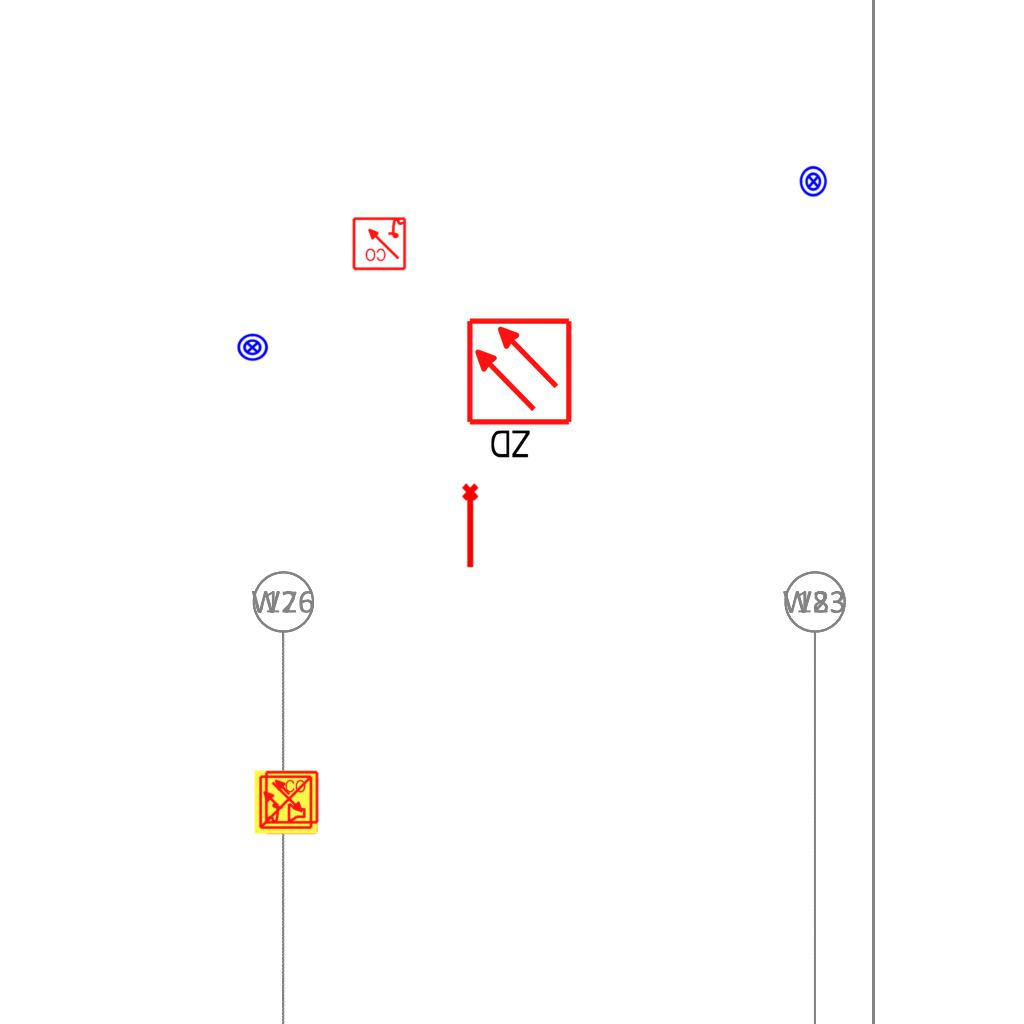ASR_Ansaugoeffnung: (460, 482, 483, 570)
OKW_Multisensormelder_(Kombination_optischer_Rauch-Kahlenmonoxid_Waerme-Melder): (253, 769, 319, 835)
ROA_Rauchmelder_optisch_mit_Signalgeber_(Sockelsirene): (351, 215, 407, 271), (264, 770, 320, 826)
Taster_beleuchtet: (236, 331, 269, 364), (797, 165, 830, 198)
ZD_Melder_in_Zwischendecke_mit_Revisionsoeffnung_mind_40_x_40_cm: (464, 316, 578, 465)
